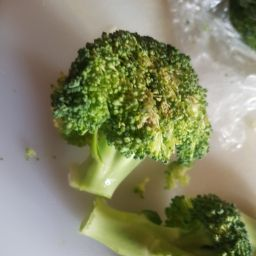Broccoli florets: (1, 26, 228, 208), (78, 178, 254, 256)
